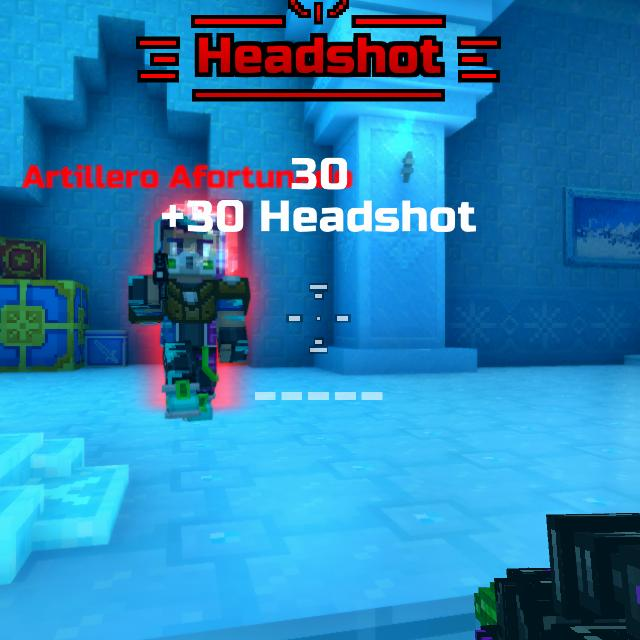Enemy: (129, 216, 252, 423)
